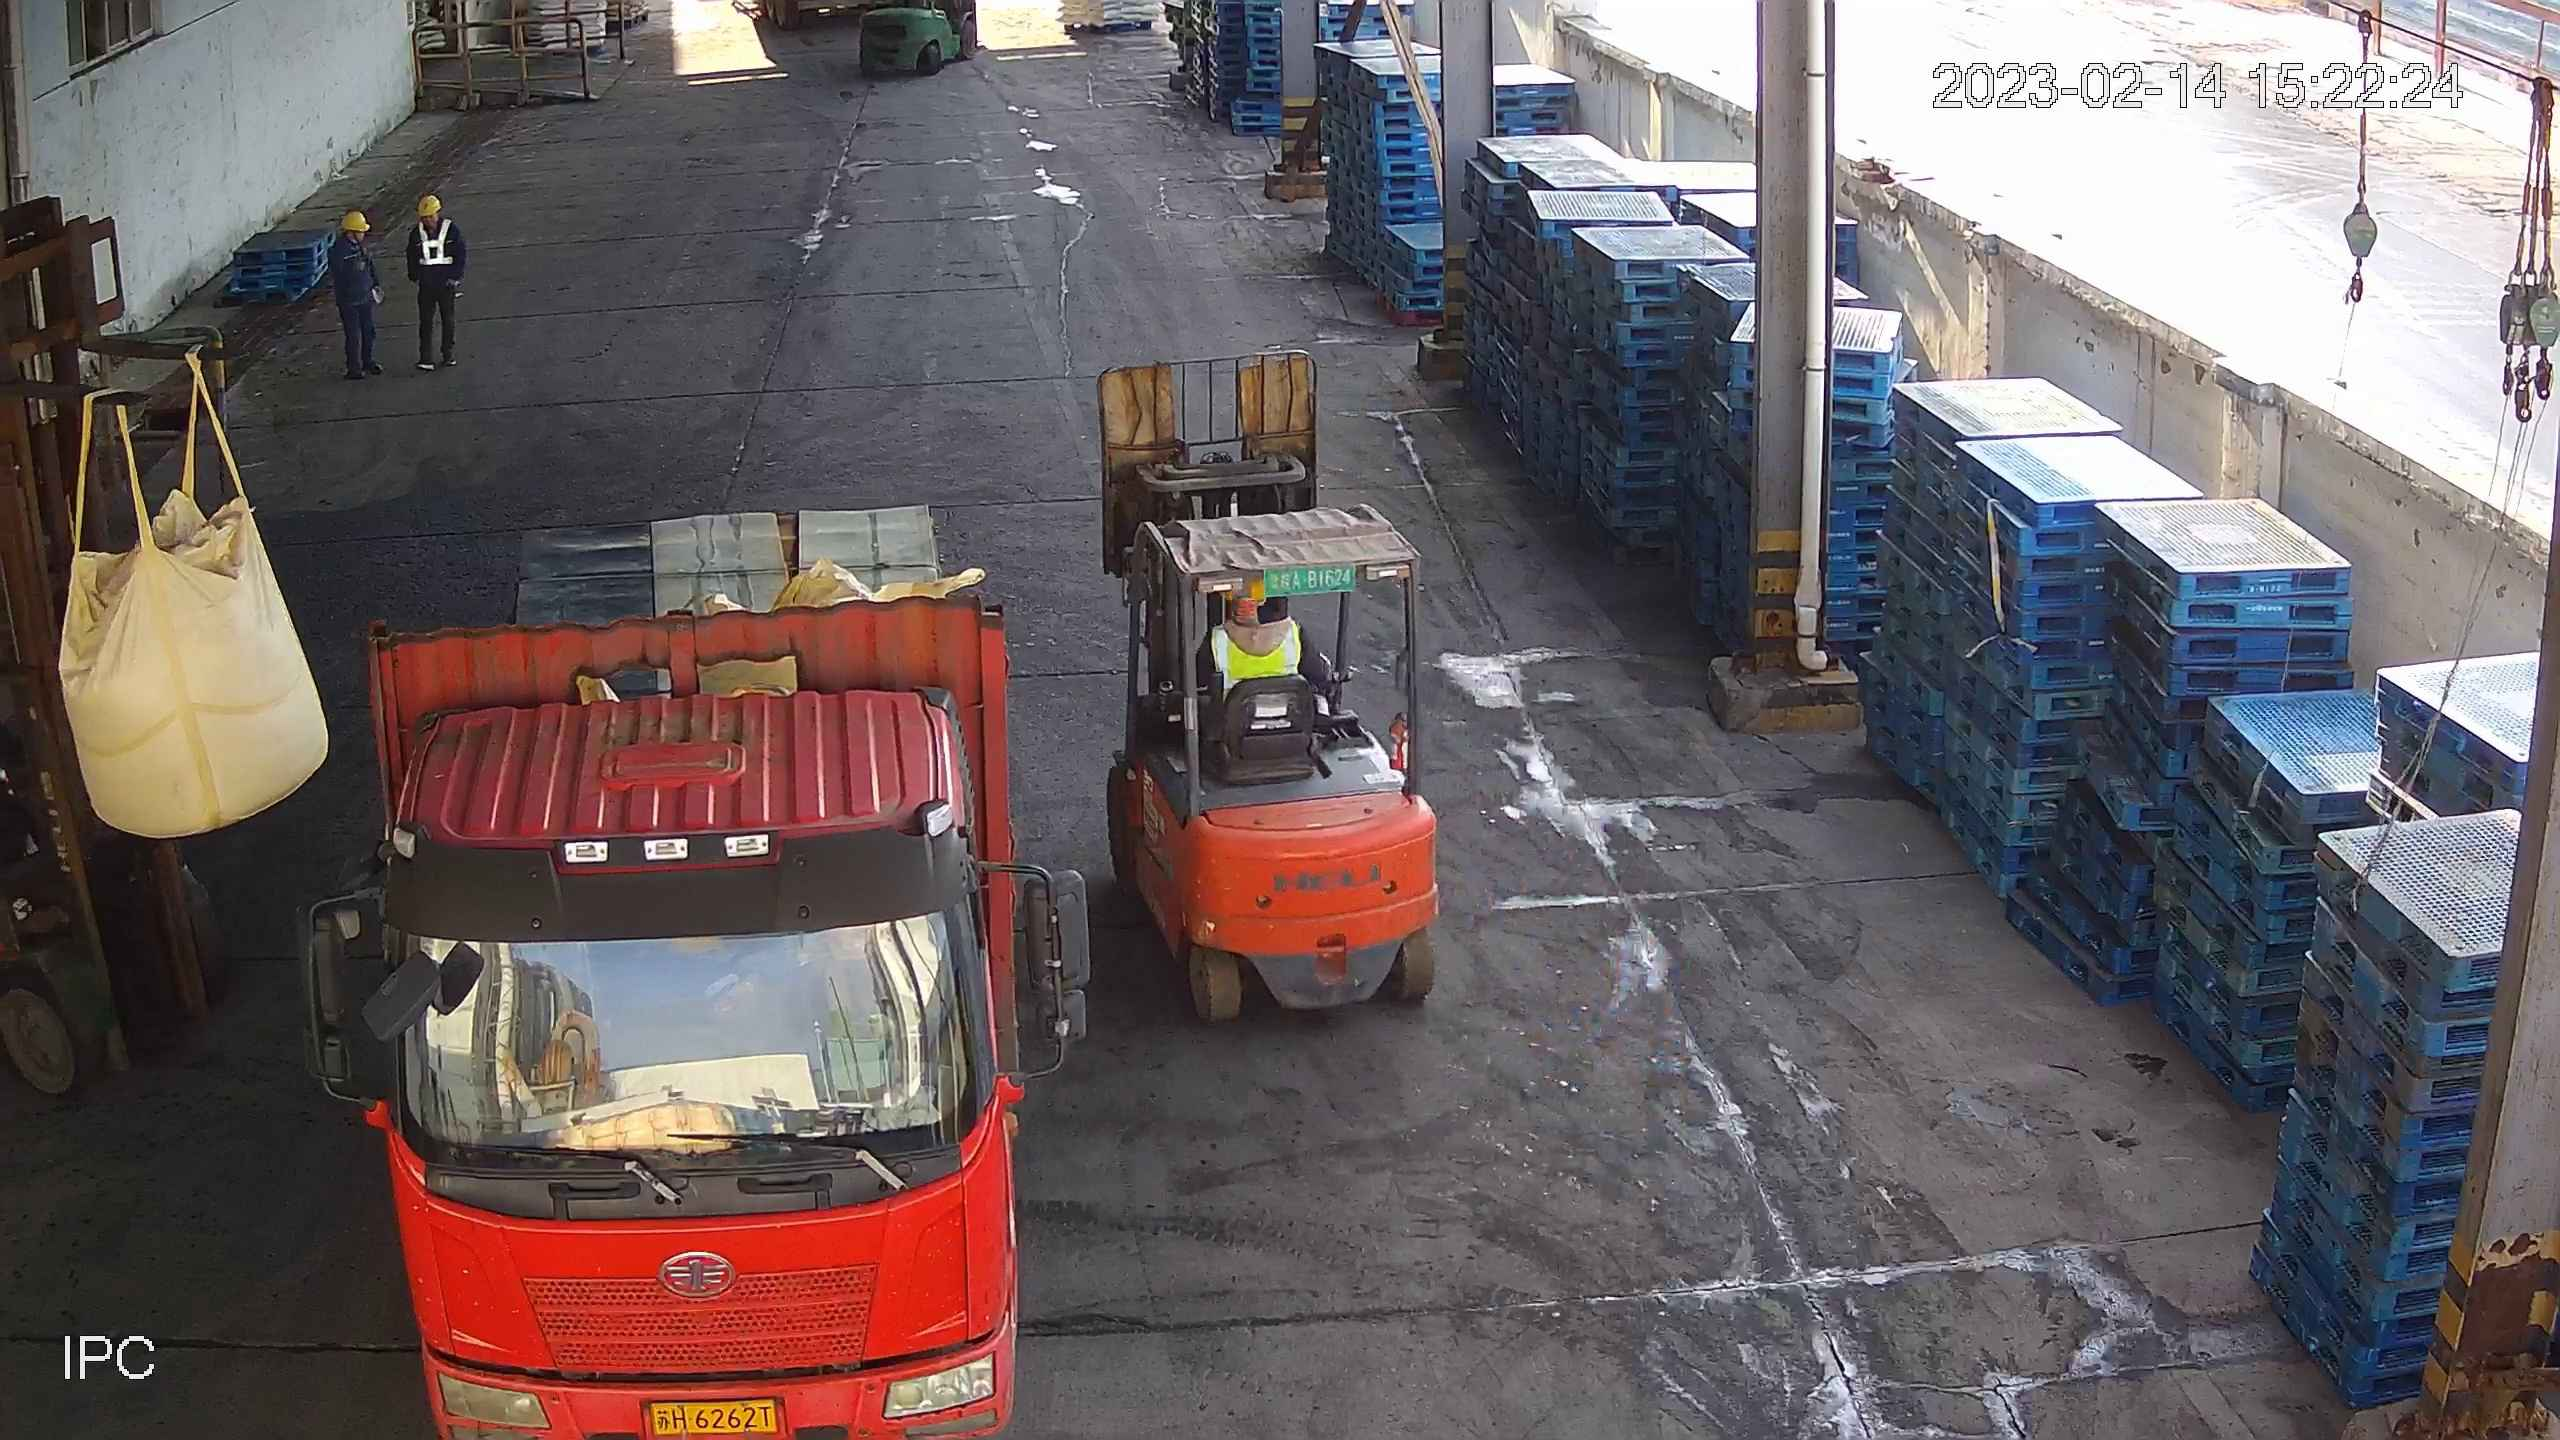head: (407, 191, 458, 241), (336, 210, 377, 270)
helmet: (340, 210, 370, 234), (417, 194, 440, 215)
people: (404, 193, 464, 372), (334, 208, 386, 381)
truck: (298, 498, 1090, 1437)
